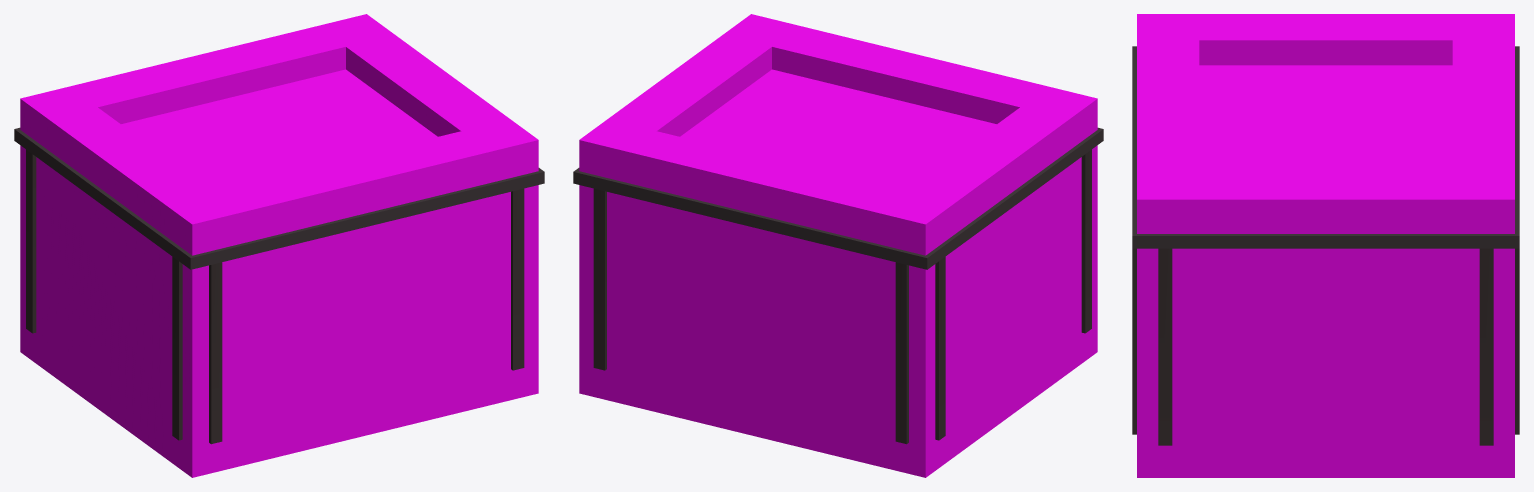
Rendered from interior-takamori-a.glb.
3 views of the same model, side by side, from view 1: azimuth 30°, elevation 25°; view 2: azimuth 150°, elevation 25°; view 3: azimuth 270°, elevation 25° (orthographic). The views are drawn at different scales.
Visible parts, largest first — view 1: Col_wall_front, Col_ceiling, Col_wall_left, Col_wall_back, Col_wall_right, Interior takamori-a Plaster; view 2: Col_wall_back, Col_ceiling, Col_wall_left, Col_wall_front, Interior takamori-a Plaster, Col_wall_right; view 3: Col_wall_right, Col_ceiling, Col_wall_back, Col_wall_front, Col_wall_left, Interior takamori-a Plaster.
Boxes of the visible parts, x1,y1,x2,y2 form: Col_wall_front: [164, 122, 538, 477]; Col_ceiling: [21, 69, 538, 309]; Col_wall_left: [20, 88, 241, 477]; Col_wall_back: [20, 14, 392, 372]; Col_wall_right: [319, 14, 538, 405]; Interior takamori-a Plaster: [14, 127, 544, 444]; Col_wall_back: [579, 123, 953, 477]; Col_ceiling: [579, 69, 1097, 308]; Col_wall_left: [876, 90, 1097, 477]; Col_wall_front: [724, 14, 1097, 372]; Interior takamori-a Plaster: [573, 127, 1103, 444]; Col_wall_right: [579, 14, 799, 236]; Col_wall_right: [1137, 173, 1514, 477]; Col_ceiling: [1137, 65, 1514, 292]; Col_wall_back: [1452, 14, 1514, 477]; Col_wall_front: [1137, 14, 1199, 477]; Col_wall_left: [1137, 14, 1514, 65]; Interior takamori-a Plaster: [1132, 46, 1519, 445].
Bounding box in the file's own units: 9.5 × 6.5 × 8.2.
